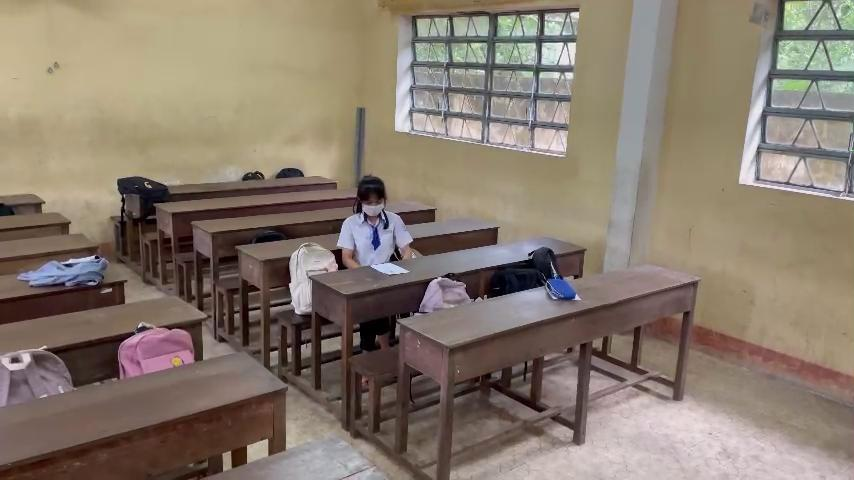Bend Over The Desk: (340, 168, 396, 227)
Hand Under Table: (331, 213, 364, 267), (385, 207, 418, 261)
